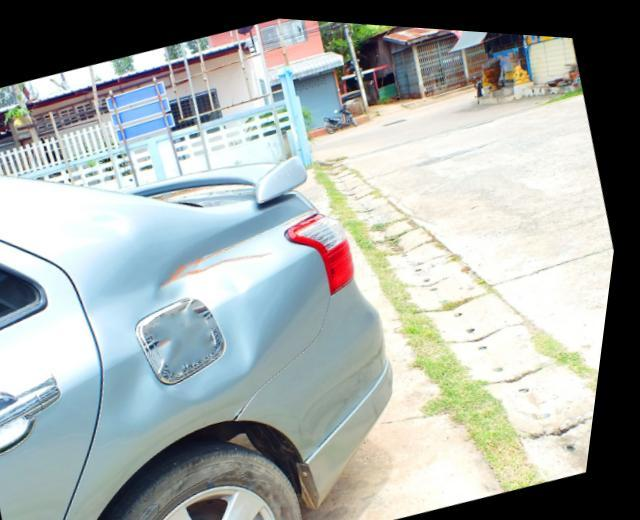dent: (101, 233, 263, 433)
scratch: (227, 202, 321, 262)
